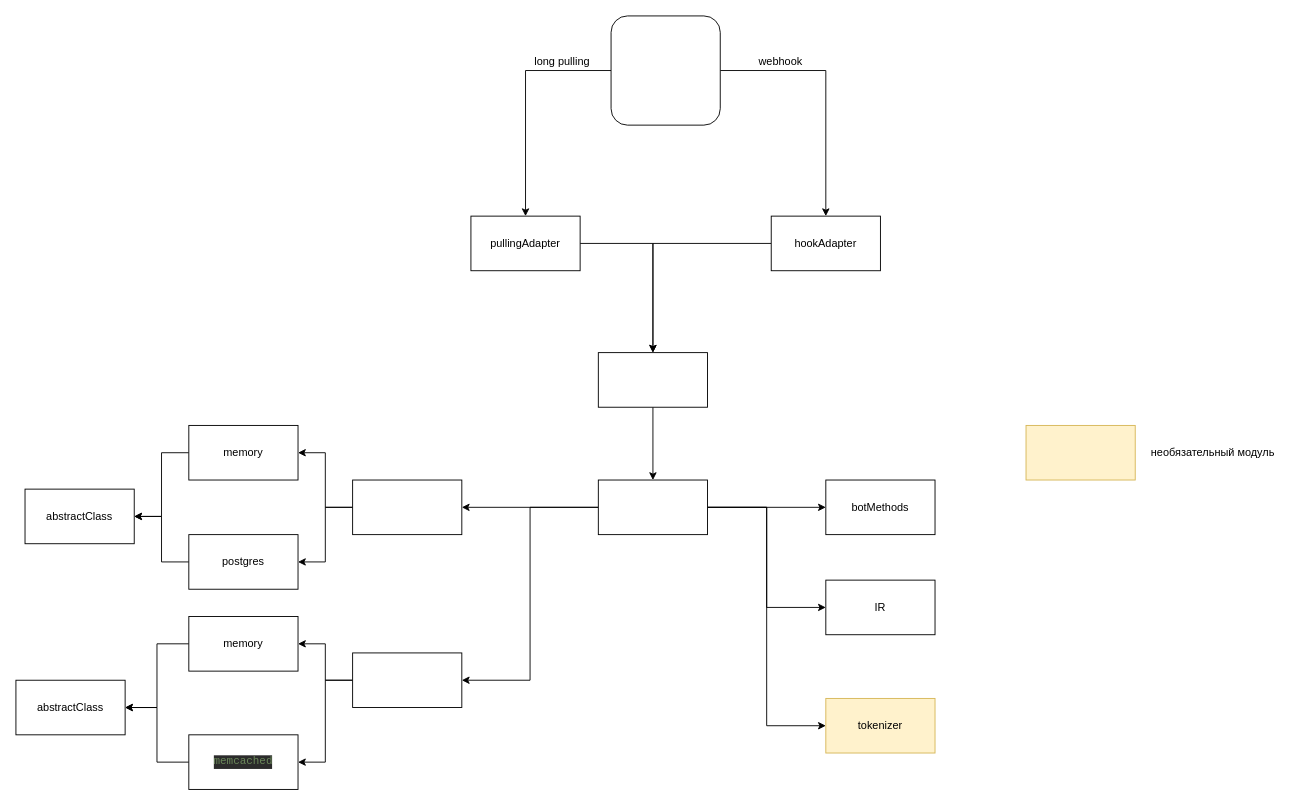
Some shapes in this 1297 by 805 pixel diagram are drawn without their labels. Here are the shapes that lost their labels. From the top down, the centre of each, then its label:
the point at 665,70: tlg queen with message
the point at 652,379: messageValidation
the point at 407,507: dbAdapter
the point at 652,507: stateMachine
the point at 407,680: cacheAdapter
